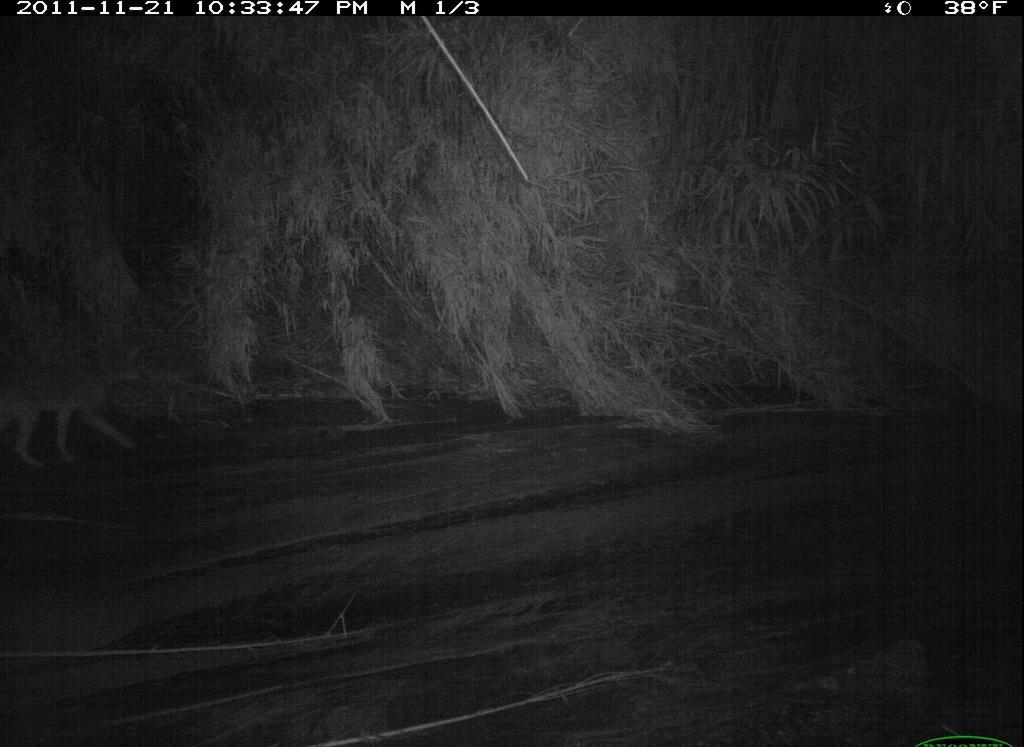coyote: (13, 327, 166, 501)
